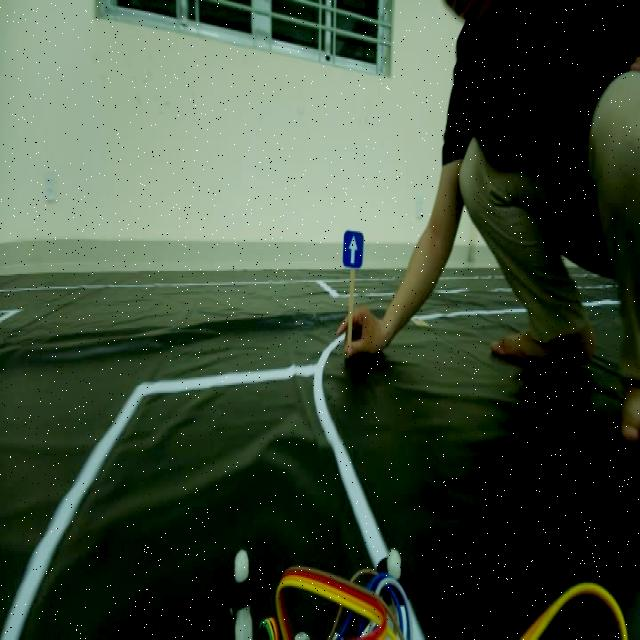onewayroad: (341, 224, 366, 272)
